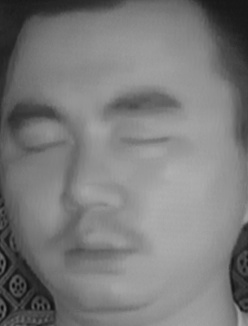blink: (14, 127, 69, 165), (119, 121, 174, 157)
mouth: (56, 218, 139, 280)
